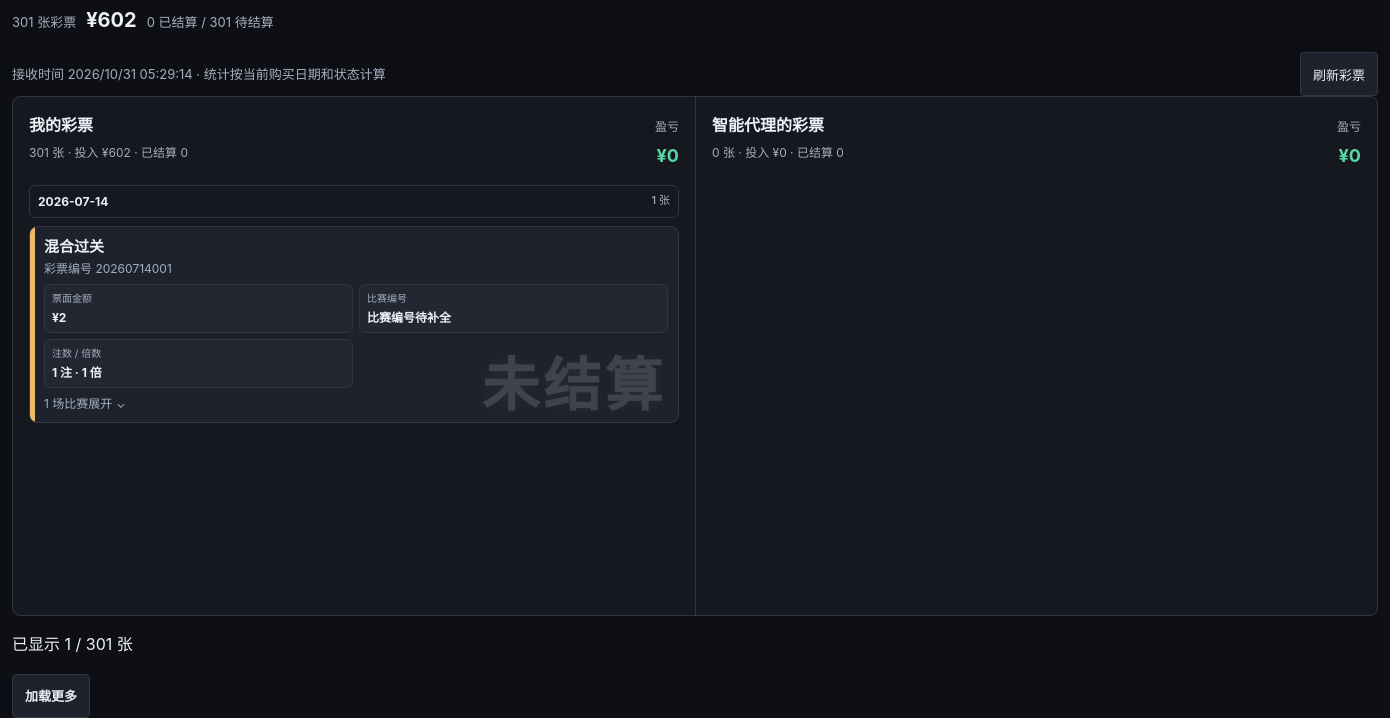
Test: TicketsPage › 显示完整统计并按游标加载更多，重复彩票只显示一次
(page scrolled)
Expected: the text "301 张彩票" is shown, [12,12,76,33]
Click the button "加载更多": click(51, 696) [12,674,90,717]
(page scrolled)
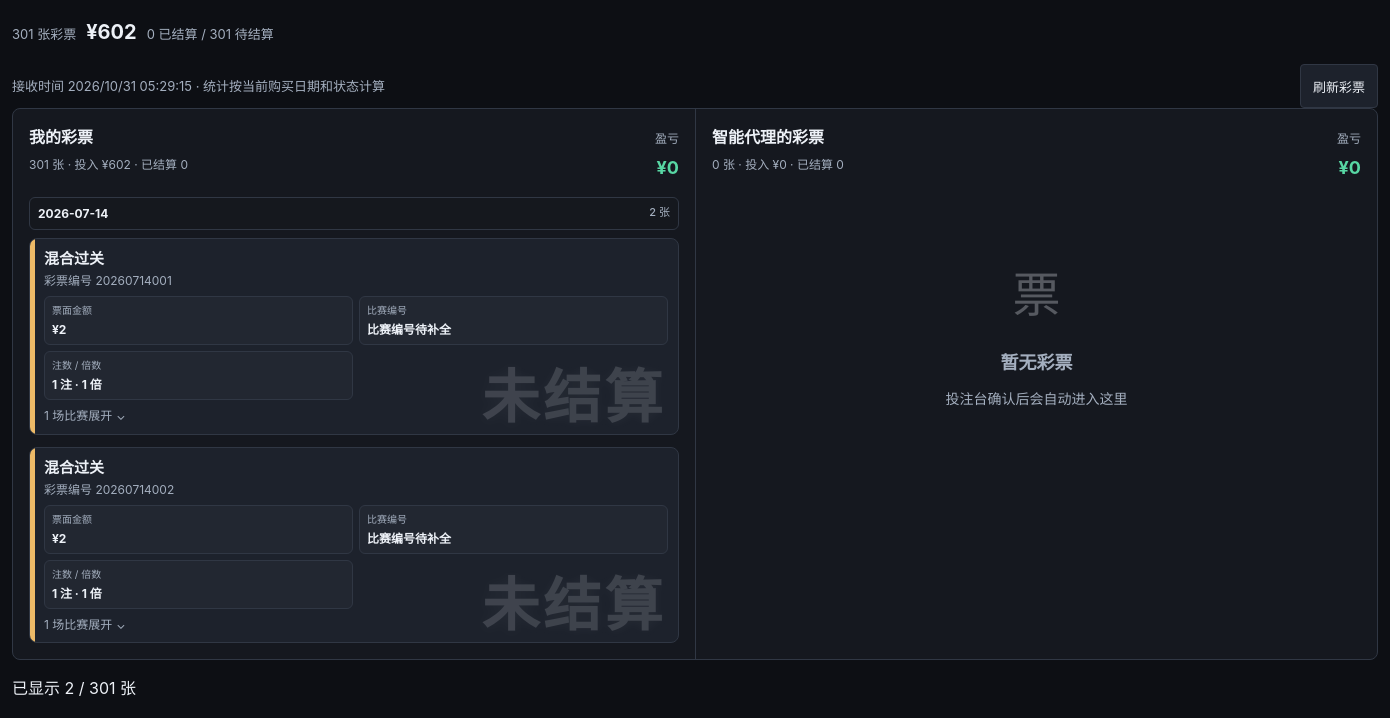
Result: the button "加载更多" is gone
